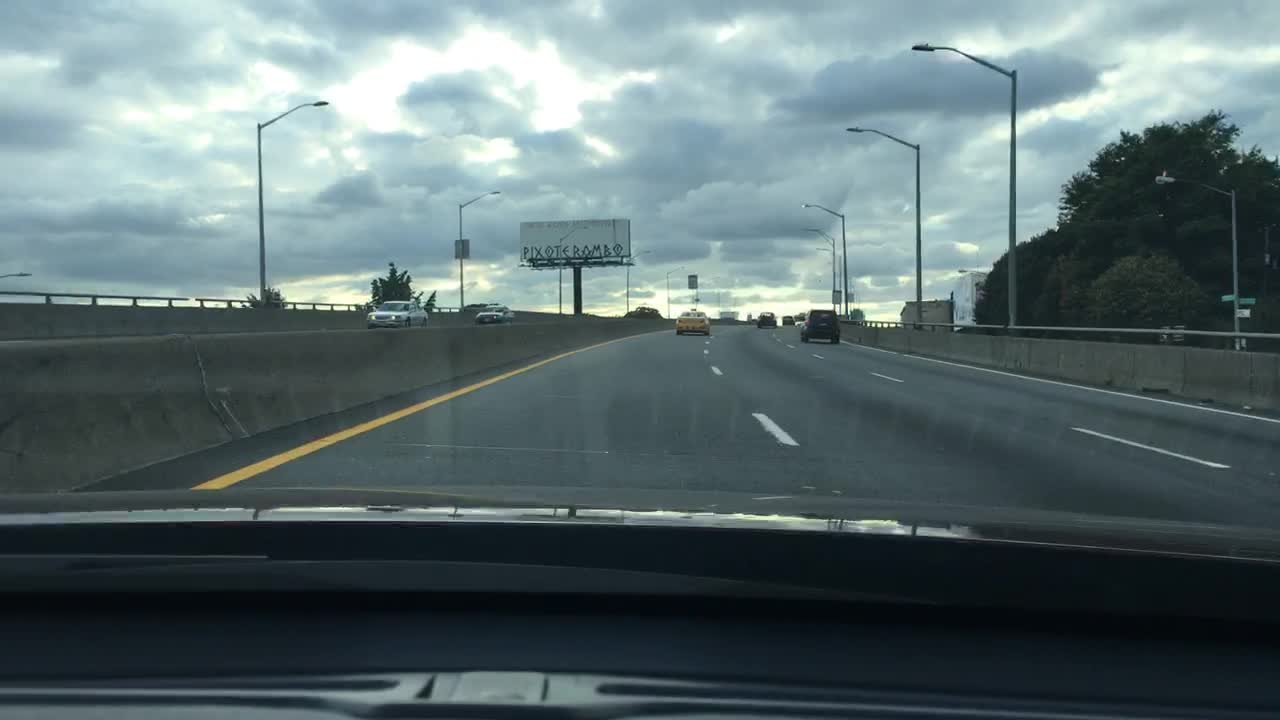car: (365, 298, 429, 329), (799, 307, 841, 343), (673, 306, 711, 336), (474, 300, 515, 323), (622, 304, 663, 318), (755, 310, 777, 328), (781, 315, 796, 326), (794, 314, 807, 326)
traffic sign: (518, 217, 632, 264), (1158, 325, 1184, 341), (454, 237, 471, 258), (831, 288, 842, 305), (1235, 307, 1252, 318), (687, 274, 698, 289), (1220, 293, 1236, 301), (1239, 296, 1254, 304)
truck: (900, 298, 954, 330)
